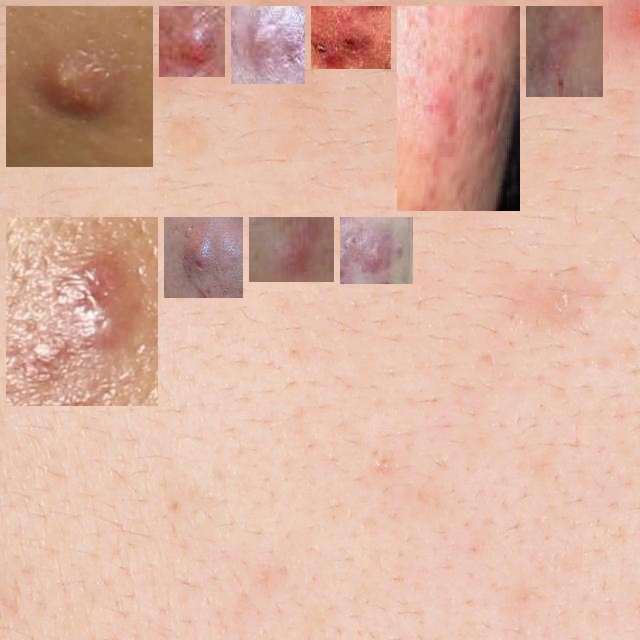nodule: (14, 225, 150, 398), (405, 14, 515, 203), (14, 14, 145, 159), (534, 14, 595, 89), (172, 225, 235, 290), (239, 14, 297, 76), (257, 225, 326, 274), (319, 14, 383, 61), (348, 225, 405, 276), (167, 14, 217, 69)
